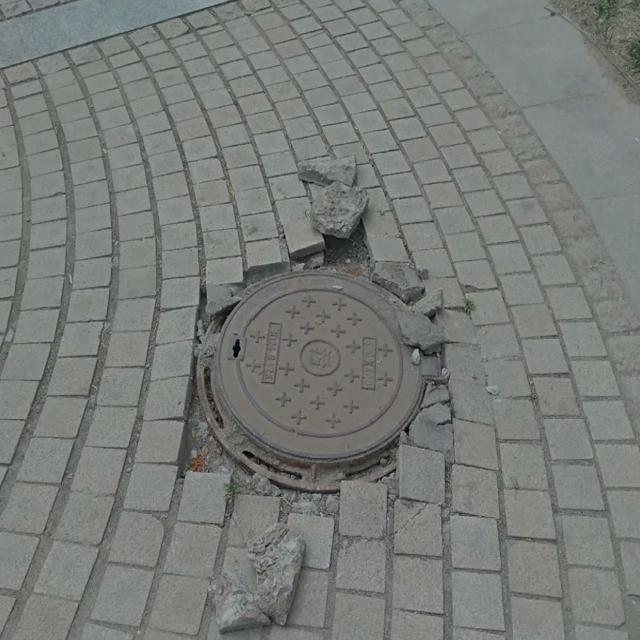circle: (152, 204, 487, 543)
